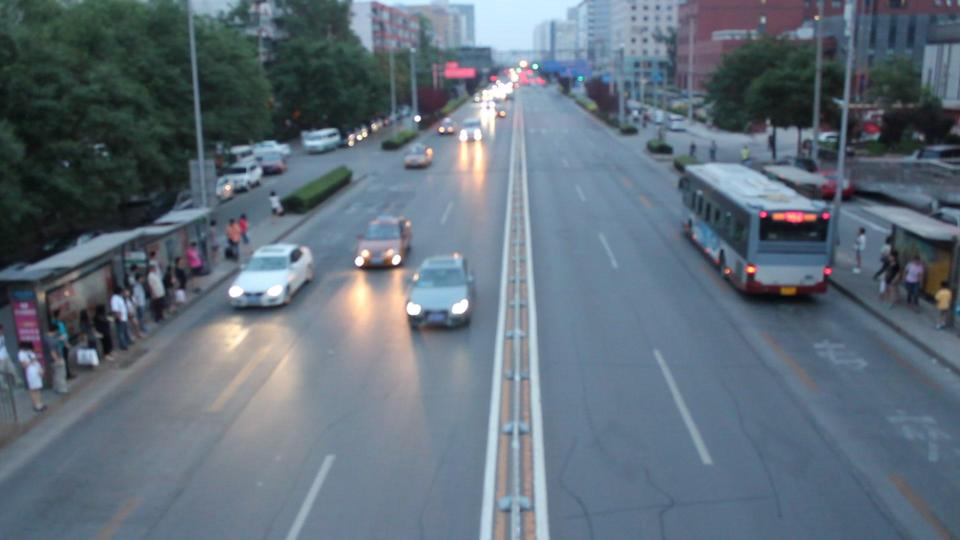Bus: (672, 157, 828, 304)
Car: (237, 236, 312, 318), (408, 256, 477, 332), (351, 212, 412, 271), (398, 136, 433, 171)
Minivan: (455, 117, 484, 147)
